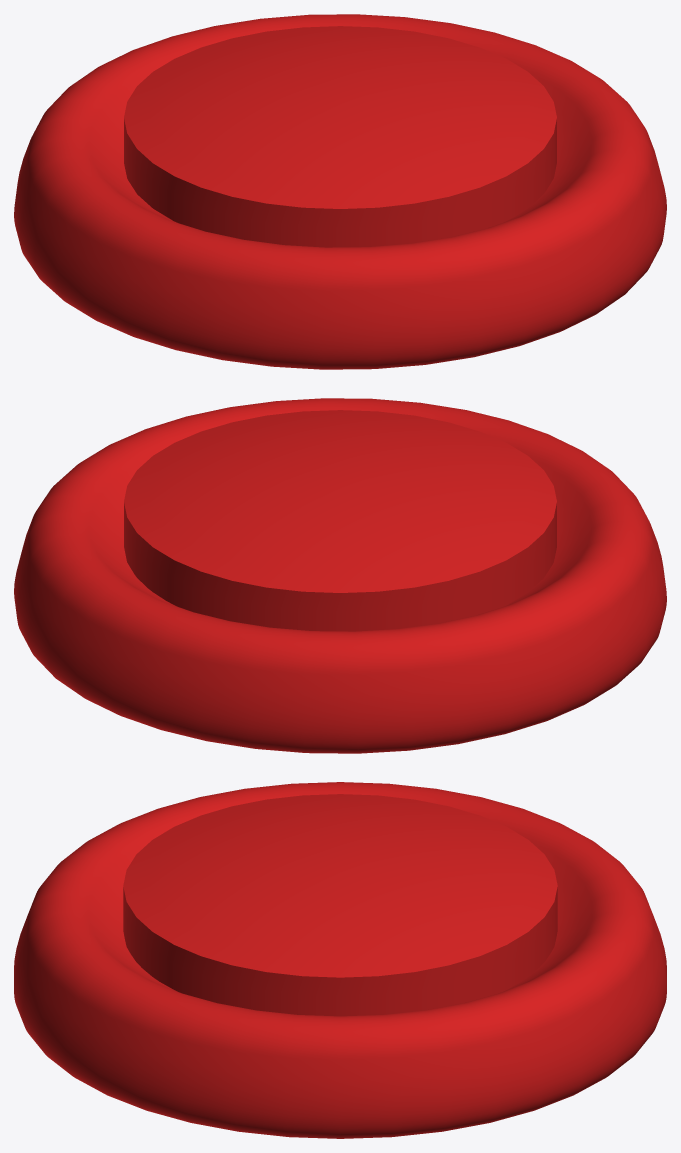
File: collect_button.fbx
The picture shows the model from 3 angles, top to bottom: view 1: azimuth 30°, elevation 25°; view 2: azimuth 150°, elevation 25°; view 3: azimuth 270°, elevation 25°; orthographic projection.
Parts seen in each view (by area): view 1: edge, button; view 2: edge, button; view 3: edge, button.
Part boxes in pixels (bbox=[...]): edge: bbox=[14, 14, 666, 369]; button: bbox=[124, 26, 556, 247]; edge: bbox=[14, 398, 666, 753]; button: bbox=[124, 410, 556, 631]; edge: bbox=[14, 782, 666, 1138]; button: bbox=[123, 794, 557, 1016].
Bounding box in the file's own units: 615 × 211 × 613.
